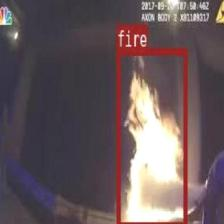fire: (116, 47, 186, 224)
